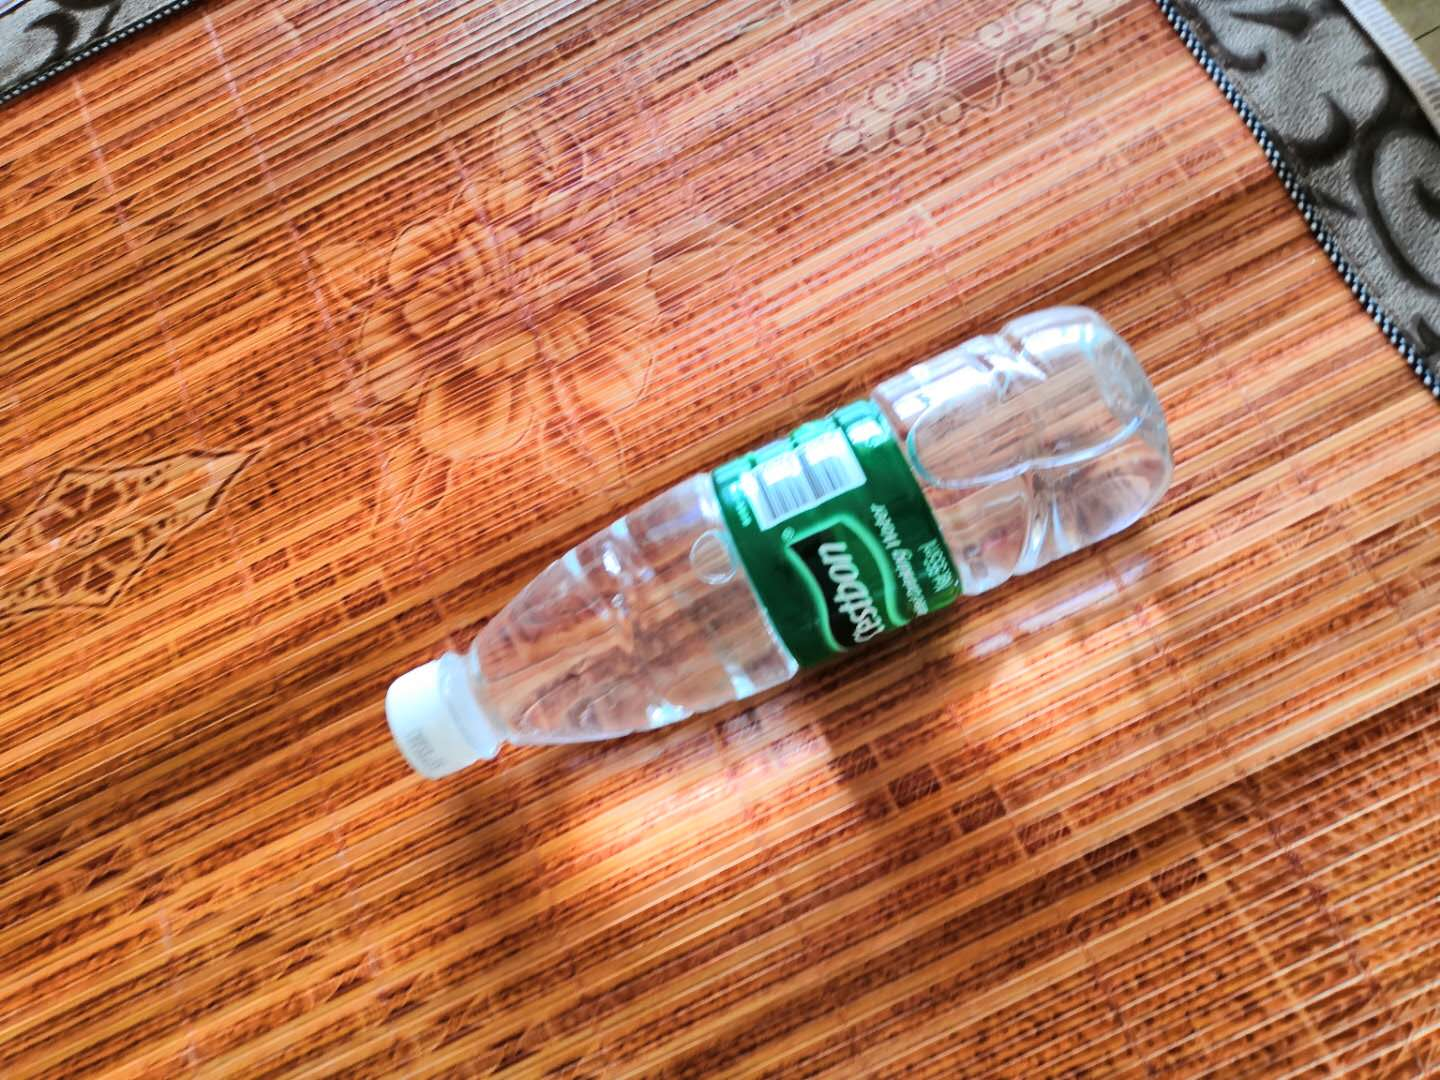怡宝: (350, 294, 1187, 799)
